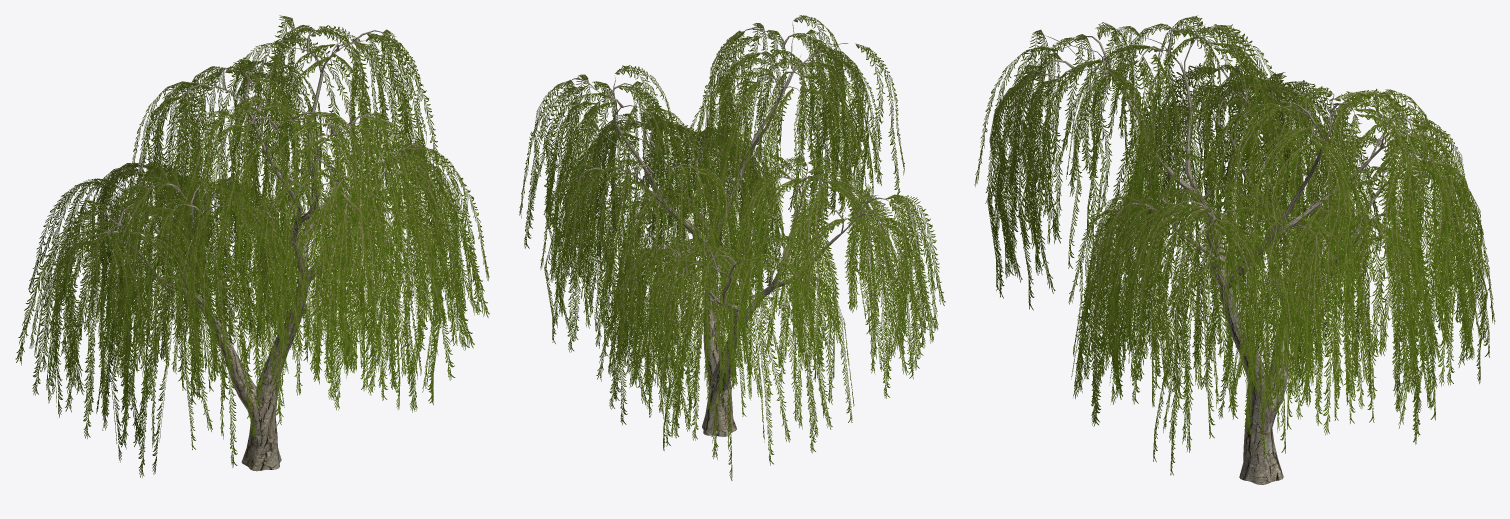
Rendered from willow.glb.
3 renders of one model, left to right at view 1: azimuth 30°, elevation 25°; view 2: azimuth 150°, elevation 25°; view 3: azimuth 270°, elevation 25°, orthographic. The views are drawn at different scales.
Parts seen in each view (by area): view 1: willow branch_1, bark10_0; view 2: willow branch_1, bark10_0; view 3: willow branch_1, bark10_0.
Boxes of the visible parts, x1=… form: willow branch_1: x1=15, y1=15, x2=489, y2=477; bark10_0: x1=97, y1=28, x2=420, y2=471; willow branch_1: x1=519, y1=15, x2=945, y2=480; bark10_0: x1=572, y1=22, x2=888, y2=436; willow branch_1: x1=974, y1=15, x2=1495, y2=475; bark10_0: x1=1030, y1=24, x2=1432, y2=484.
Size of the model in its own units: 8.3 by 7.73 by 8.1.
2 materials, 2 textured.
